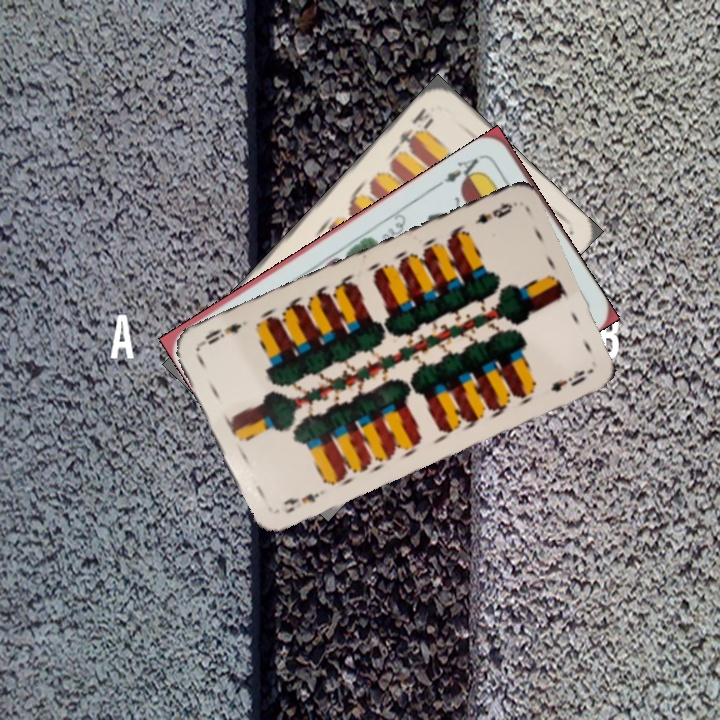E10: (391, 103, 437, 153)
E9: (279, 485, 327, 516), (470, 198, 515, 227)
EA: (434, 150, 487, 189)
